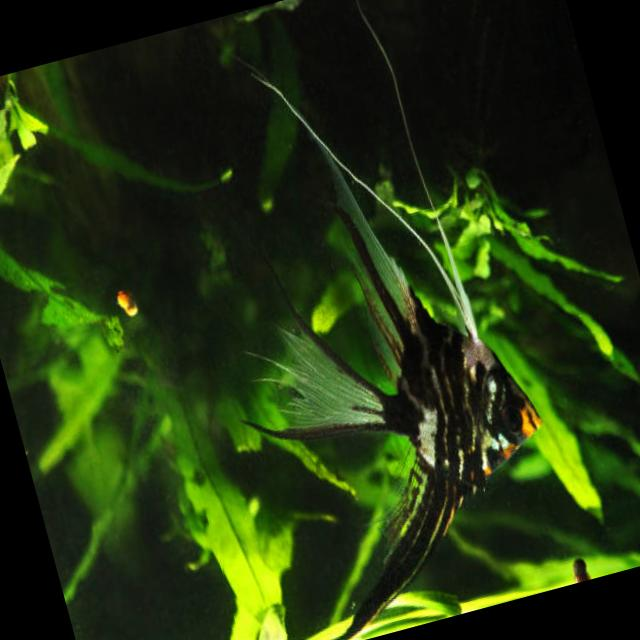AngelFish: (147, 0, 578, 640)
